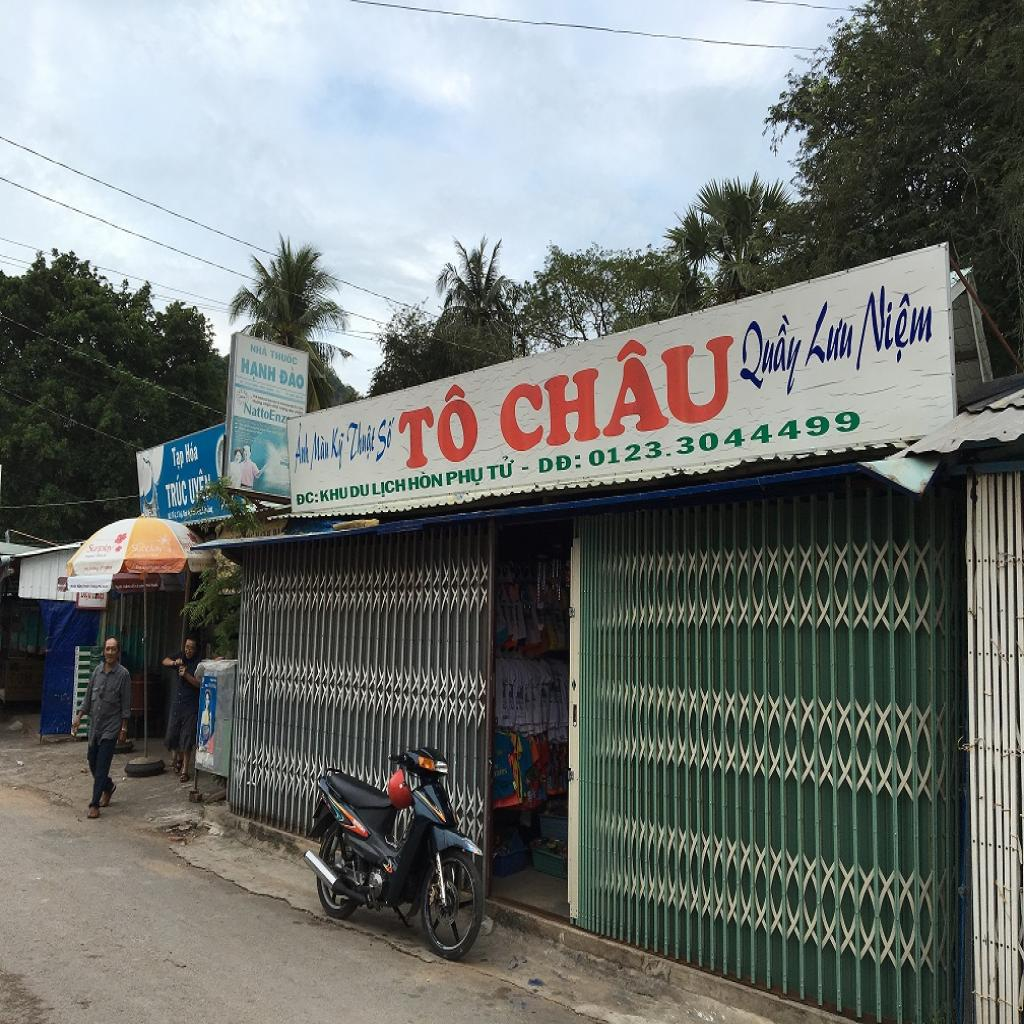text: (496, 308, 736, 456), (851, 274, 939, 376), (397, 376, 485, 472), (738, 310, 808, 398), (804, 294, 858, 368), (345, 420, 377, 467), (241, 355, 277, 389), (375, 414, 397, 468), (539, 450, 584, 476), (242, 400, 288, 425), (187, 464, 213, 506), (162, 471, 189, 511), (293, 420, 311, 477), (446, 465, 486, 490), (407, 468, 444, 494), (329, 425, 348, 474), (310, 429, 330, 474), (486, 455, 517, 484), (372, 476, 406, 501), (277, 364, 307, 392), (270, 347, 300, 368), (295, 486, 319, 508), (320, 484, 349, 502), (170, 444, 187, 473), (350, 481, 372, 501), (130, 542, 165, 554), (184, 439, 200, 464), (85, 543, 116, 555), (250, 340, 268, 359), (519, 461, 531, 474)
